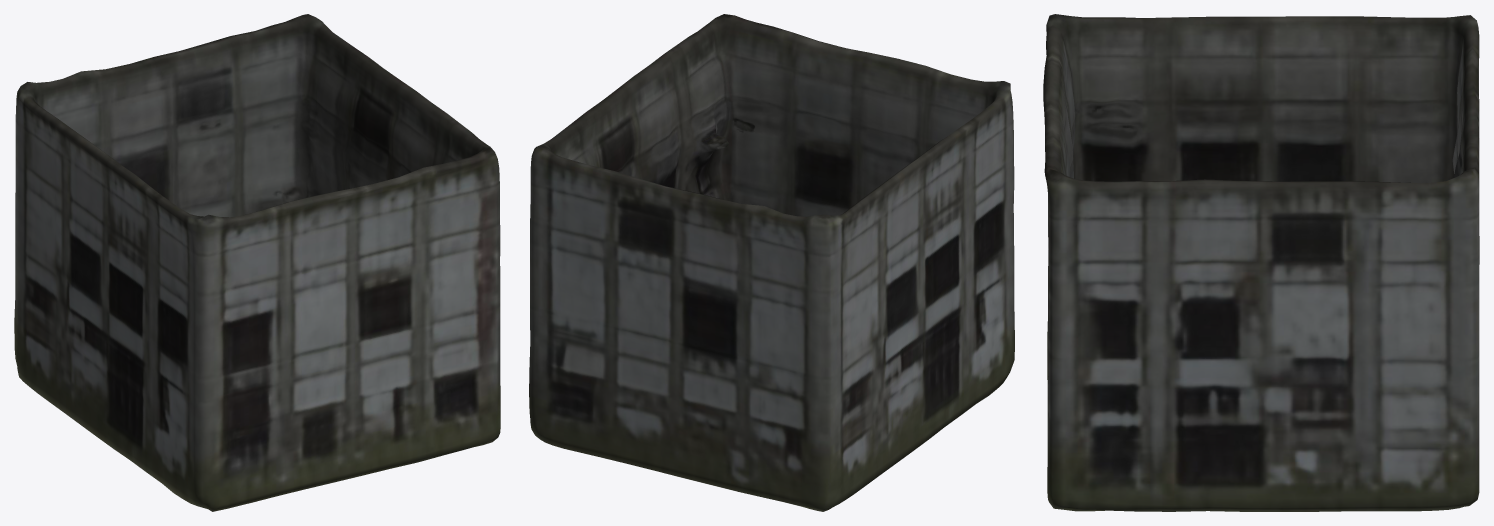
File: abandoned_building3.glb
3 renders of one model, left to right at view 1: azimuth 30°, elevation 25°; view 2: azimuth 150°, elevation 25°; view 3: azimuth 270°, elevation 25°, orthographic. The views are drawn at different scales.
Visible parts, largest first — view 1: mesh; view 2: mesh; view 3: mesh.
Boxes of the visible parts, x1,y1,x2,y2 form: mesh: (14,14,500,511); mesh: (529,14,1014,511); mesh: (1043,14,1479,511).
Bounding box in the file's own units: 0.9163 × 0.8512 × 0.9945.
Materials: 1 (1 with a texture image).
